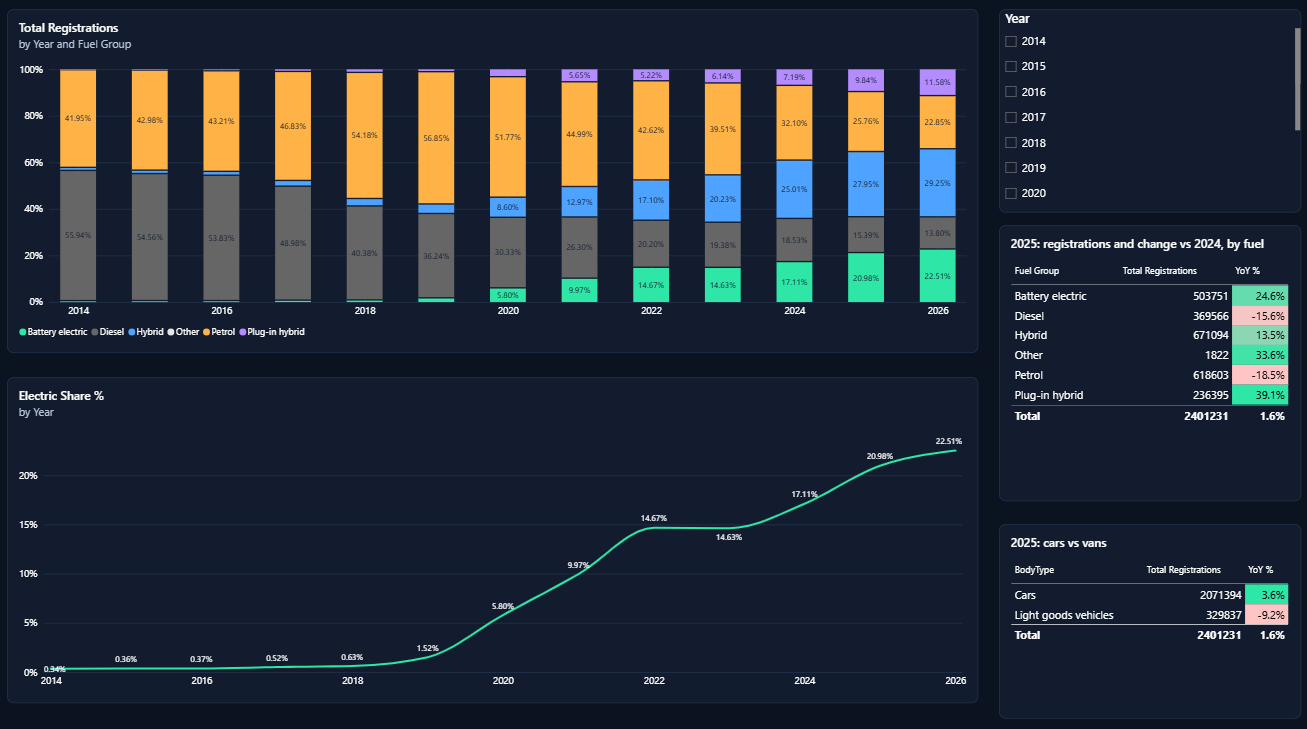

The dashboard page shown, as its layout file describes it:
{"tool":"powerbi","page":{"name":"Electric and hybrid are replacing diesel","canvas":[1920,1080],"ordinal":1},"visuals":[{"type":"hundredPercentStackedColumnChart","fields":{"Category":["Date.Date.Variation.Date Hierarchy.Year","Date.Date.Variation.Date Hierarchy.Quarter","Date.Date.Variation.Date Hierarchy.Month","Date.Date.Variation.Date Hierarchy.Day"],"Series":["df_VEH0160_UK.Fuel Group"],"Y":["df_VEH0160_UK.Total Registrations"]},"box":[17.5,23.3,1416.7,501.9],"z":0},{"type":"lineChart","fields":{"Category":["Date.Date.Variation.Date Hierarchy.Year","Date.Date.Variation.Date Hierarchy.Quarter","Date.Date.Variation.Date Hierarchy.Month","Date.Date.Variation.Date Hierarchy.Day"],"Y":["df_VEH0160_UK.Electric Share %"]},"box":[17.5,560.2,1416.7,475.6],"z":1000},{"type":"tableEx","title":"2025: registrations and change vs 2024, by fuel","fields":{"Values":["df_VEH0160_UK.Fuel Group","df_VEH0160_UK.Total Registrations","df_VEH0160_UK.YoY %"]},"box":[1464.8,338.5,440.6,402.7],"z":2000},{"type":"tableEx","title":"2025: cars vs vans","fields":{"Values":["df_VEH0160_UK.BodyType","df_VEH0160_UK.Total Registrations","df_VEH0160_UK.YoY %"]},"box":[1464.8,774.7,440.6,284.5],"z":3000},{"type":"slicer","fields":{"Values":["Date.Date.Variation.Date Hierarchy.Year"]},"box":[1465,23,441,297],"z":4000}]}

Visuals, with their boxes in screenshot pixels (x1, y1, x2, y2), scaled from the page's 1920x1080 canvas onto the 1307x729 screenshot:
hundredPercentStackedColumnChart - Date.Date.Variation.Date Hierarchy.Year x Date.Date.Variation.Date Hierarchy.Quarter: (12, 16, 976, 355)
lineChart - Date.Date.Variation.Date Hierarchy.Year x Date.Date.Variation.Date Hierarchy.Quarter: (12, 378, 976, 699)
"2025: registrations and change vs 2024, by fuel" tableEx: (997, 228, 1297, 500)
"2025: cars vs vans" tableEx: (997, 523, 1297, 715)
slicer - Date.Date.Variation.Date Hierarchy.Year: (997, 16, 1297, 216)
